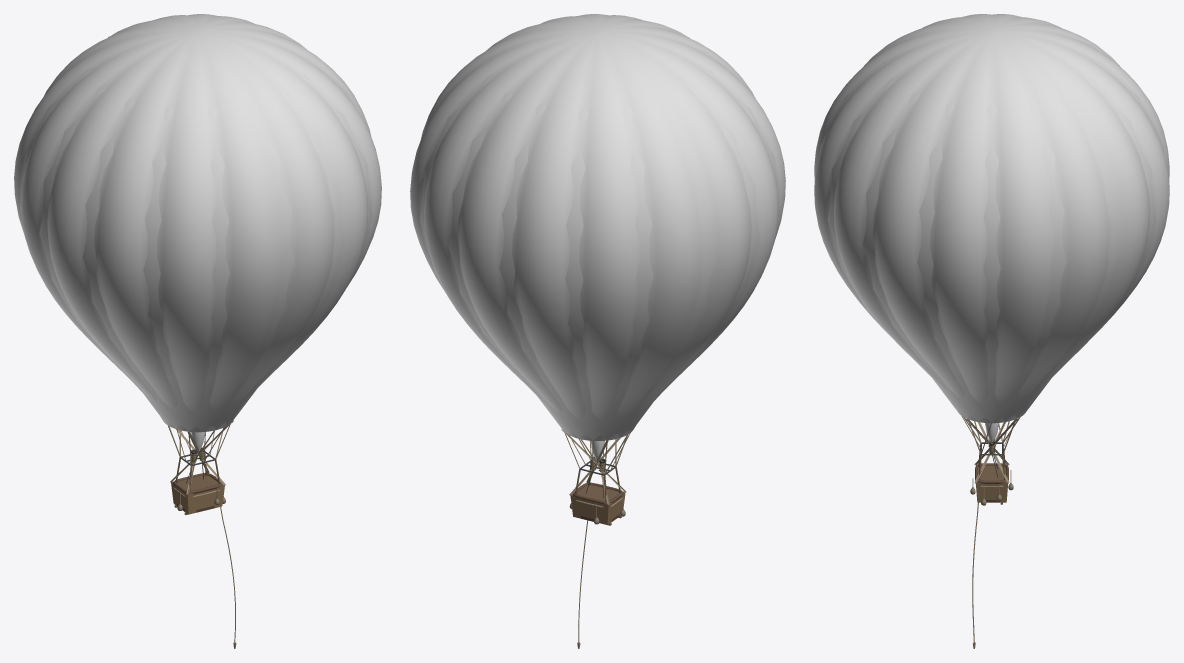
File: balloon.glb
The picture shows the model from 3 angles, left to right: view 1: azimuth 30°, elevation 25°; view 2: azimuth 150°, elevation 25°; view 3: azimuth 270°, elevation 25°; orthographic projection. The views are drawn at different scales.
Visible parts, largest first — view 1: Envelope, Far, Gondola; view 2: Envelope, Far, Gondola; view 3: Envelope, Far, Gondola.
Part boxes in pixels (left/top/right/bottom): Envelope: left=14, top=14, right=381, bottom=432; Far: left=20, top=15, right=371, bottom=514; Gondola: left=168, top=424, right=236, bottom=648; Envelope: left=410, top=14, right=785, bottom=440; Far: left=420, top=15, right=779, bottom=524; Gondola: left=565, top=433, right=630, bottom=648; Envelope: left=814, top=14, right=1169, bottom=423; Far: left=820, top=15, right=1163, bottom=502; Gondola: left=961, top=416, right=1020, bottom=648.
Size of the model in its own units: 13.09 by 24.52 by 13.09.
